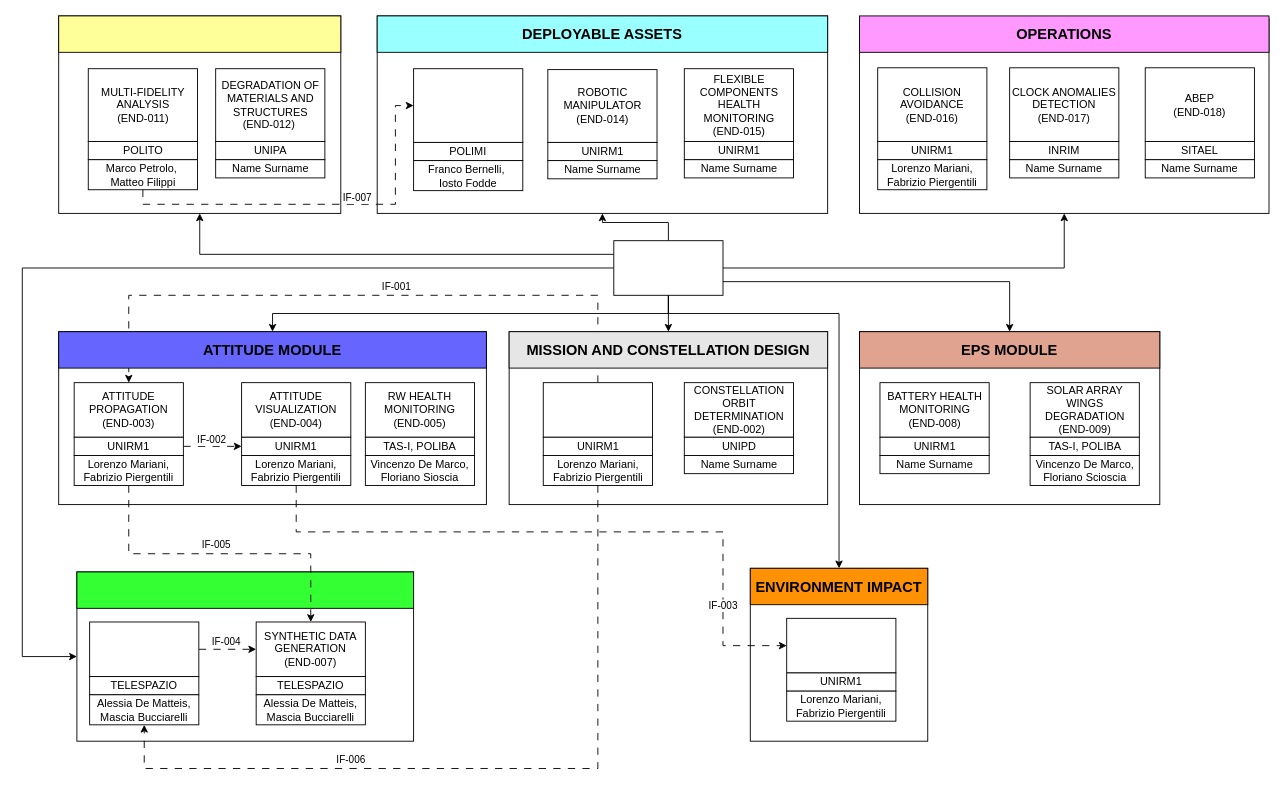
The diagram is 1285 pixels wide and 792 high, and some of its shapes have lost their labels. The shapes that lost their labels are listed below. From the top down, each one's centre as x and y in pixels, then its label:
At [199,33]: "STRUCTURE MODULE".
At [468,105]: "INTERACTION WITH THE SURFACE OF A PLANETARY BODY (END-013)".
At [668,267]: "STAR".
At [597,409]: "CONSTELLATION OPTIMIZER (END-001)".
At [245,589]: "OBSERVATION MODULE".
At [144,649]: "SCENARIO GENERATION (END-006)".
At [841,645]: "REFLECTANCE DETERMINATION (END-010)".
